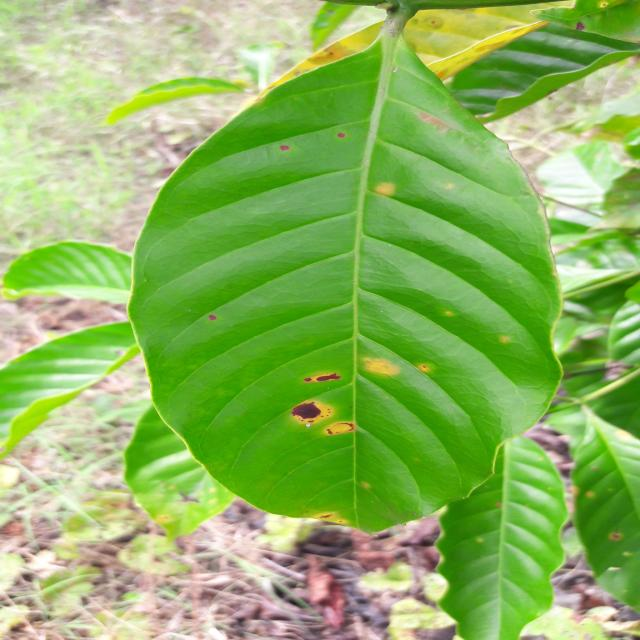Enfermedad-Roya: (127, 0, 563, 534)
